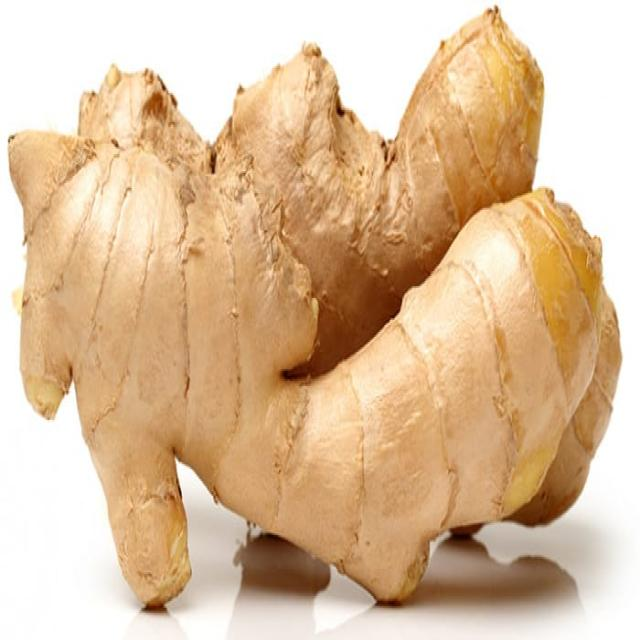ginger-root: (4, 6, 627, 619)
